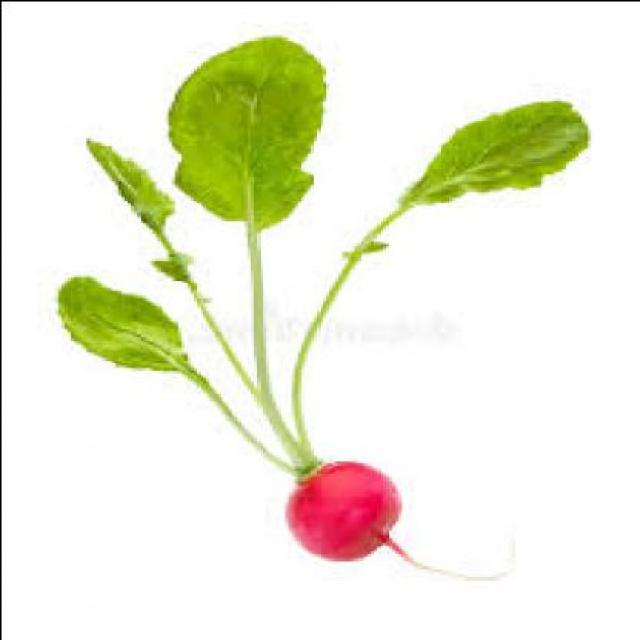BIODEGRADABLE: (63, 32, 589, 459), (170, 31, 332, 228), (290, 457, 512, 580), (407, 96, 590, 204), (60, 276, 211, 384), (88, 137, 195, 281)
